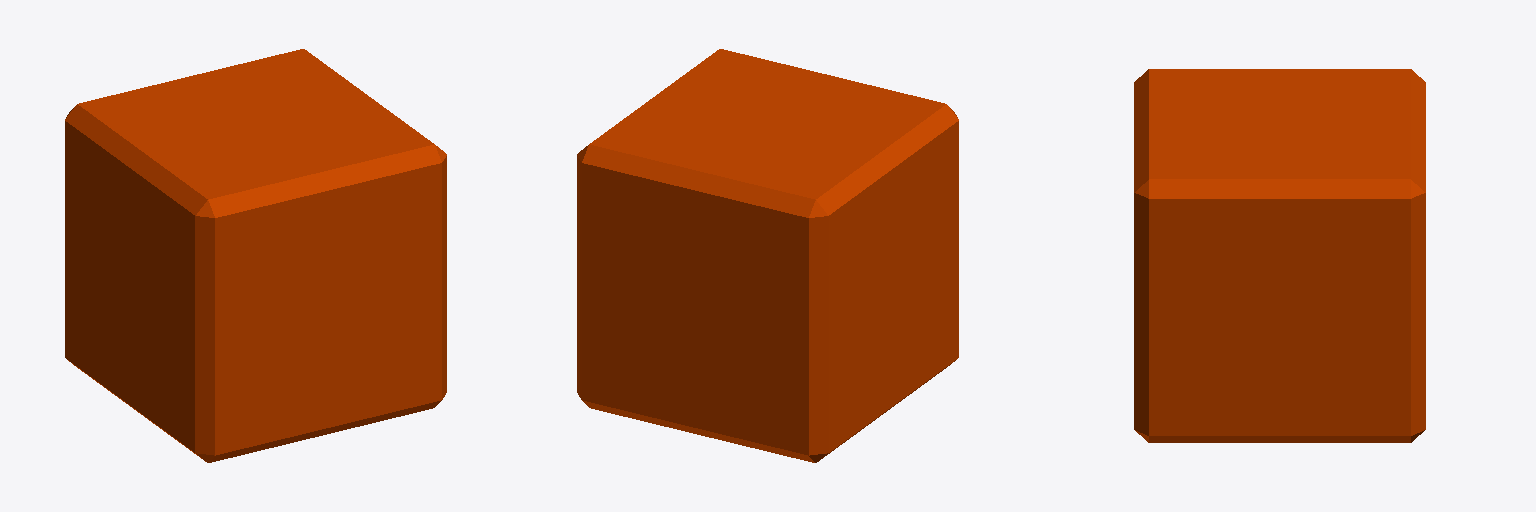
The model's file is formas.obj.
3 renders of one model, left to right at view 1: azimuth 30°, elevation 25°; view 2: azimuth 150°, elevation 25°; view 3: azimuth 270°, elevation 25°, orthographic.
Visible parts, largest first — view 1: Cube; view 2: Cube; view 3: Cube.
Boxes of the visible parts, x1,y1,x2,y2 form: Cube: [65, 49, 446, 462]; Cube: [577, 49, 958, 462]; Cube: [1134, 69, 1425, 442].
Bounding box in the file's own units: 2 × 2 × 2.